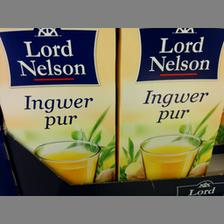Tee: (0, 27, 116, 182), (115, 28, 223, 180)
